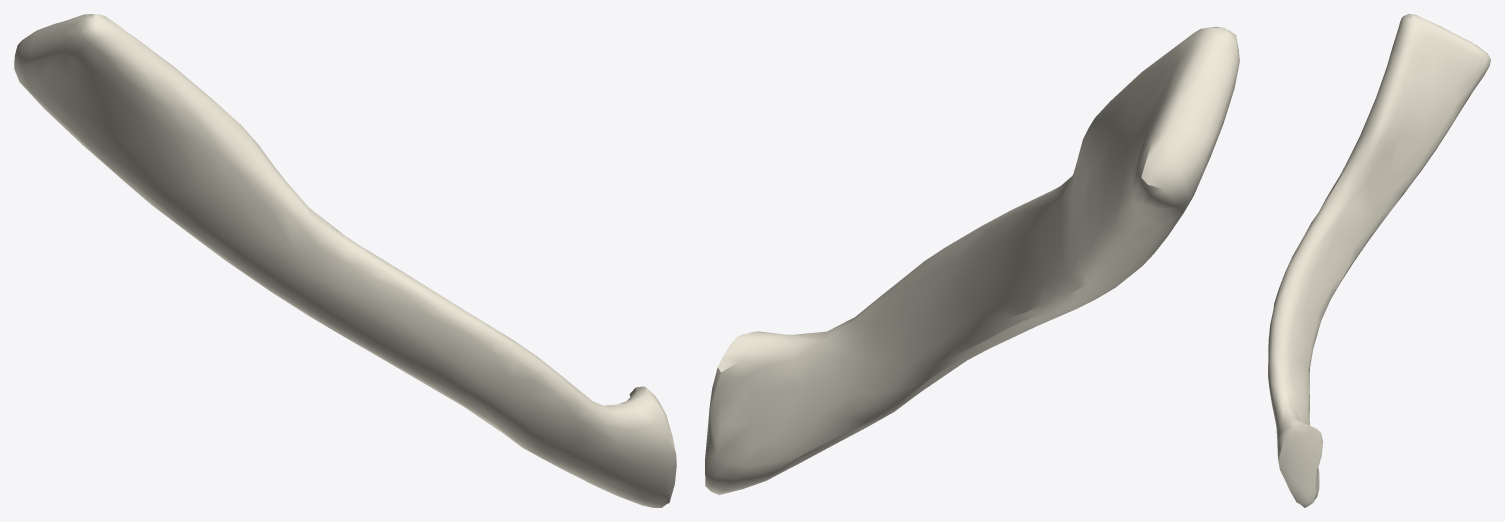
Rendered from fma40014_mm2020m.glb.
The picture shows the model from 3 angles, left to right: view 1: azimuth 30°, elevation 25°; view 2: azimuth 150°, elevation 25°; view 3: azimuth 270°, elevation 25°; orthographic projection. The views are drawn at different scales.
Visible parts, largest first — view 1: FMA40014_MM2020M; view 2: FMA40014_MM2020M; view 3: FMA40014_MM2020M.
Boxes of the visible parts, bbox=[...] form: FMA40014_MM2020M: bbox=[14, 14, 676, 507]; FMA40014_MM2020M: bbox=[705, 26, 1239, 494]; FMA40014_MM2020M: bbox=[1268, 14, 1490, 507].
Bounding box in the file's own units: 0.0229 × 0.0232 × 0.0136.
